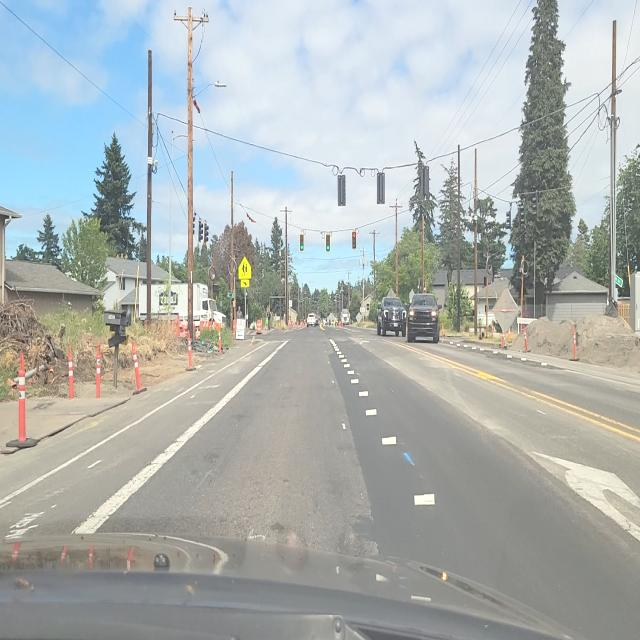car: (404, 292, 438, 343), (376, 296, 406, 338), (307, 313, 319, 328), (341, 310, 350, 326)
crosswalk-sign: (238, 257, 252, 285)
delineator: (16, 353, 28, 443), (131, 340, 144, 394), (67, 346, 75, 402), (95, 344, 103, 400), (186, 332, 193, 371), (522, 325, 530, 352), (572, 326, 577, 361), (217, 322, 222, 353), (175, 316, 182, 338), (88, 543, 94, 568), (198, 317, 205, 333), (440, 318, 445, 339), (501, 330, 506, 349), (195, 322, 200, 340), (491, 321, 495, 336), (508, 327, 512, 342), (290, 320, 294, 328)
